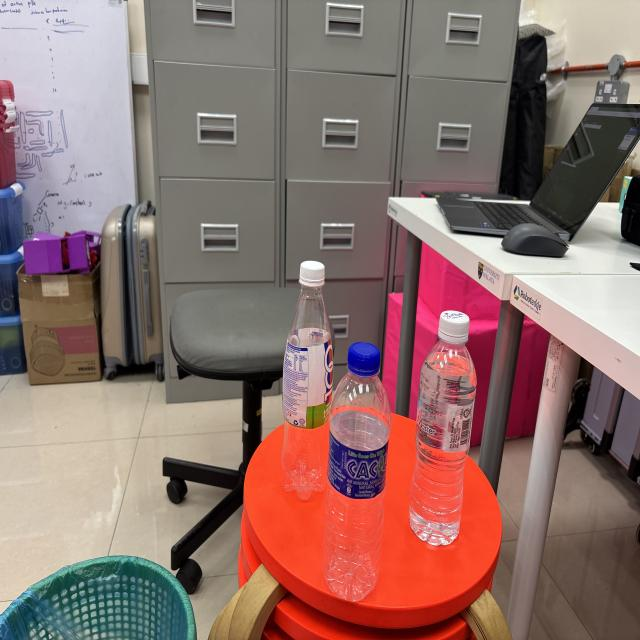plastic_bottle: (403, 304, 484, 558), (321, 338, 394, 612), (278, 254, 338, 506)
